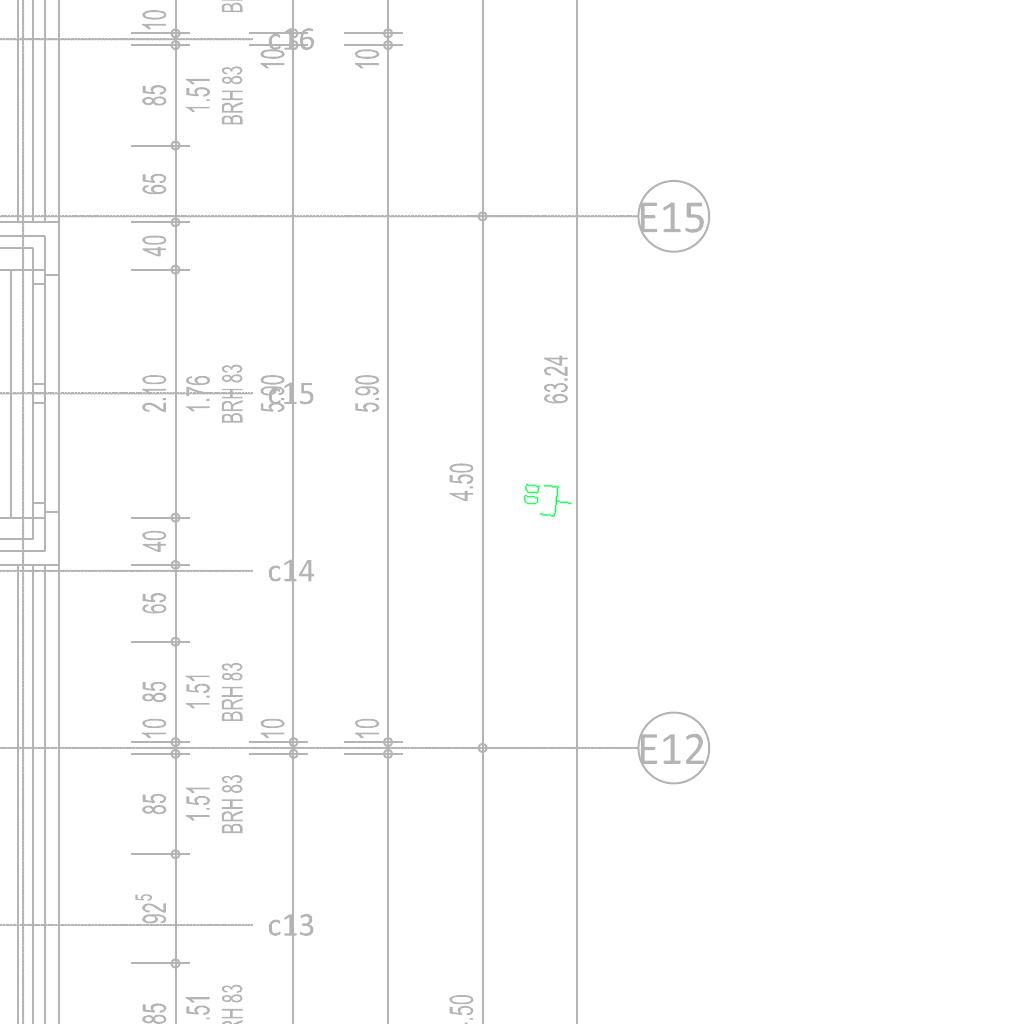Datenanschluss_zweifach: (520, 480, 575, 520)
